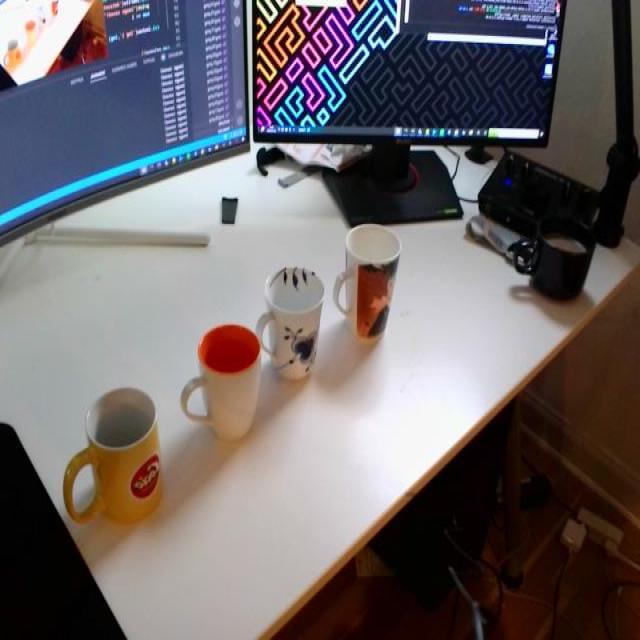cup: (58, 375, 164, 537), (171, 315, 269, 447), (332, 213, 407, 352), (256, 250, 328, 388)
